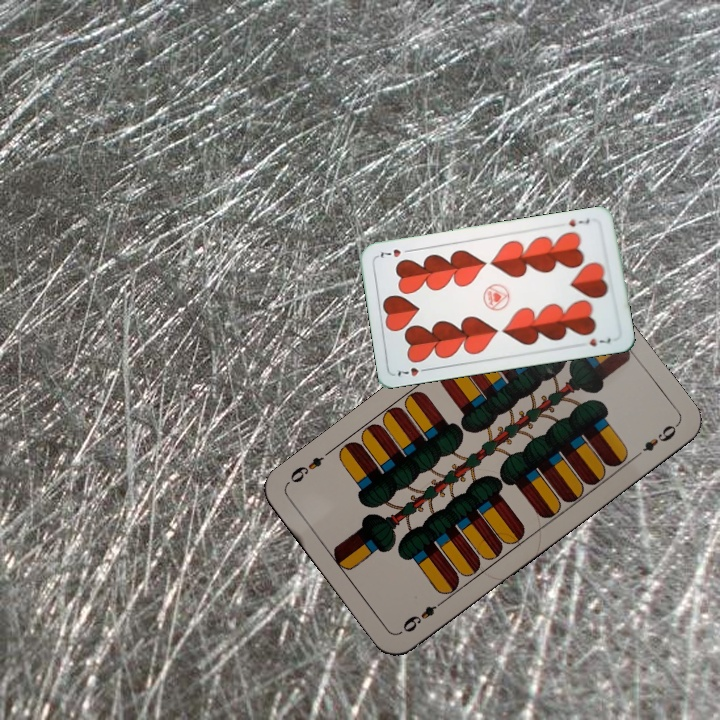E9: (399, 595, 448, 635)
H7: (393, 363, 432, 379), (565, 213, 592, 229)
